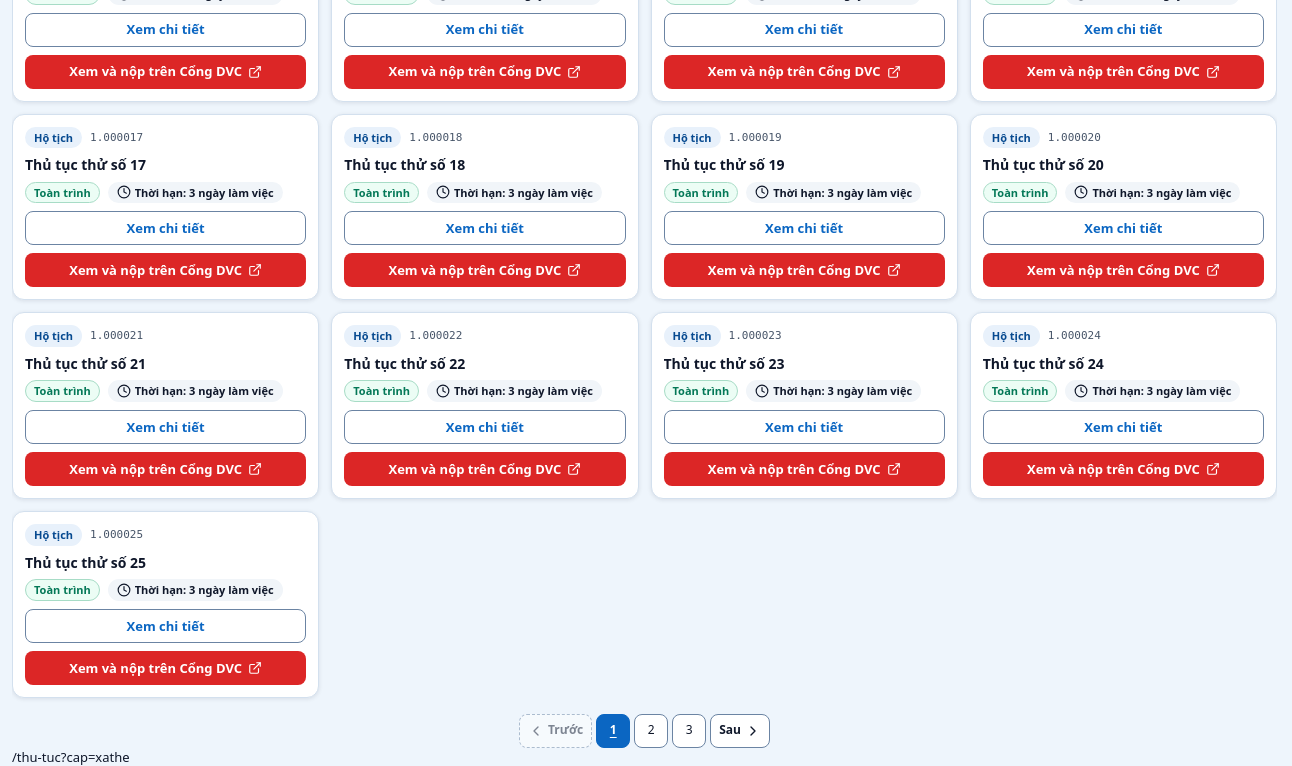
Test: DanhMuc — địa chỉ (AC-5, AC-9, AC-10, AC-18) › AC-9: 60 kết quả → 3 trang (25, 25, 10); trang 2 bắt đầu từ kết quả thứ 26
(page scrolled)
Click the button "2": (651, 731) [634, 714, 668, 748]
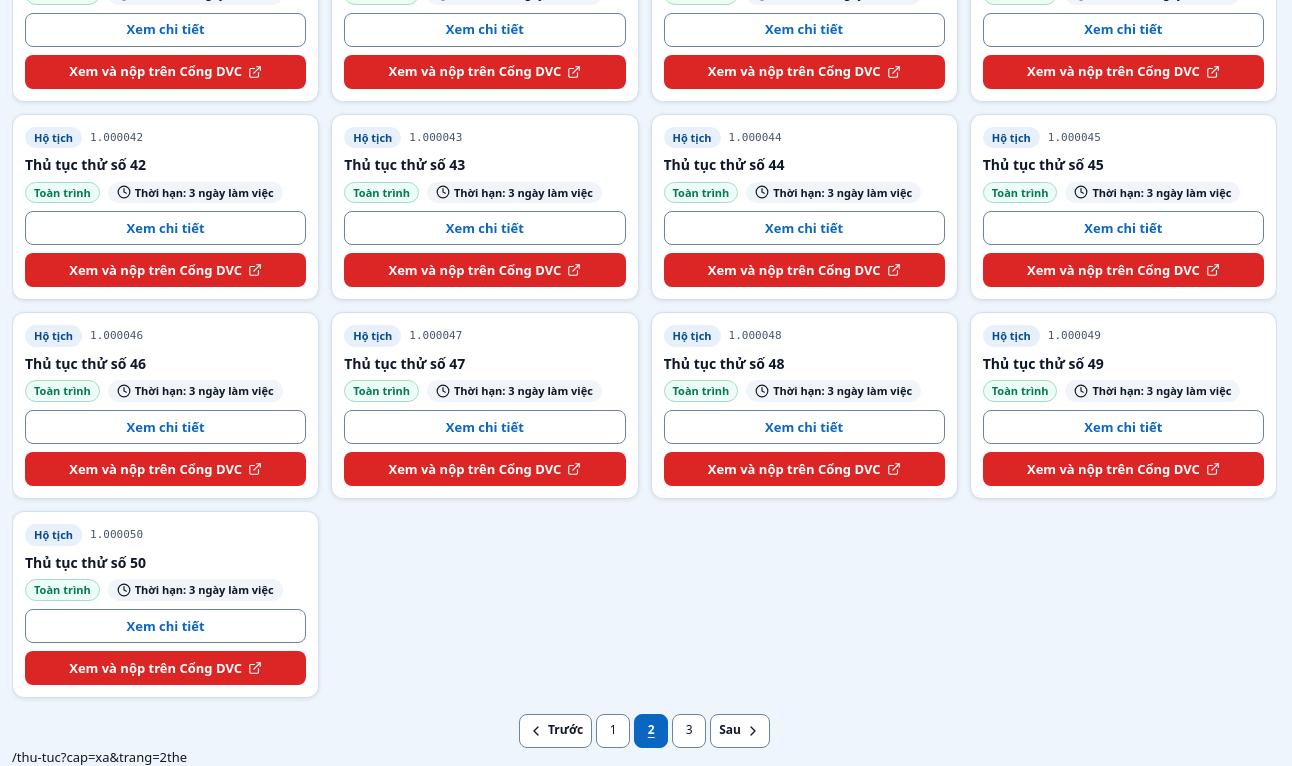
Click the button "3": (689, 731) [672, 714, 706, 748]
(page scrolled)
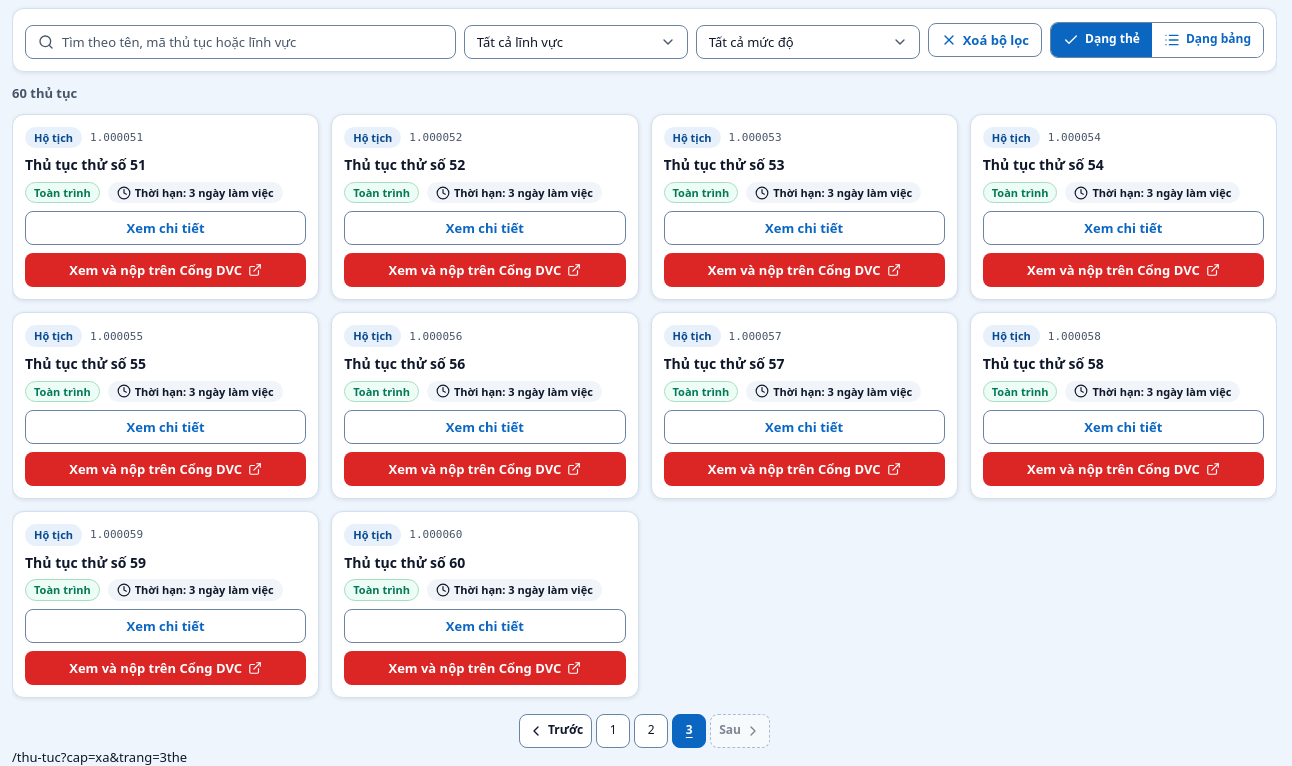
Expected: the number of headings is 10
